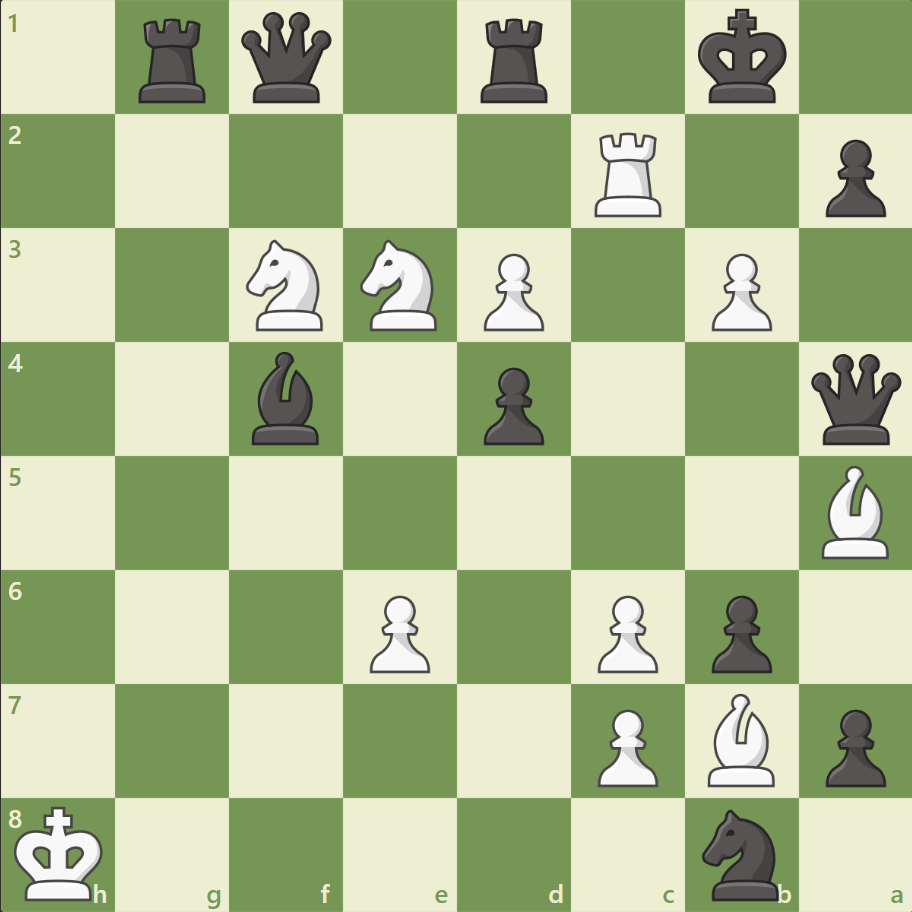B: (698, 687, 782, 790), (812, 460, 896, 563)
K: (11, 798, 111, 906)
N: (351, 234, 449, 337), (238, 234, 335, 337)
P: (701, 246, 776, 337), (474, 246, 549, 337), (588, 700, 662, 791), (588, 586, 662, 677), (361, 586, 435, 677)
R: (587, 125, 670, 222)
b: (244, 347, 328, 449)
k: (692, 4, 792, 112)
n: (692, 802, 789, 904)
p: (701, 586, 776, 677), (474, 359, 549, 450), (815, 700, 889, 791), (815, 132, 889, 223)
q: (805, 349, 904, 449), (237, 9, 336, 108)
r: (473, 12, 556, 109), (133, 12, 215, 109)
